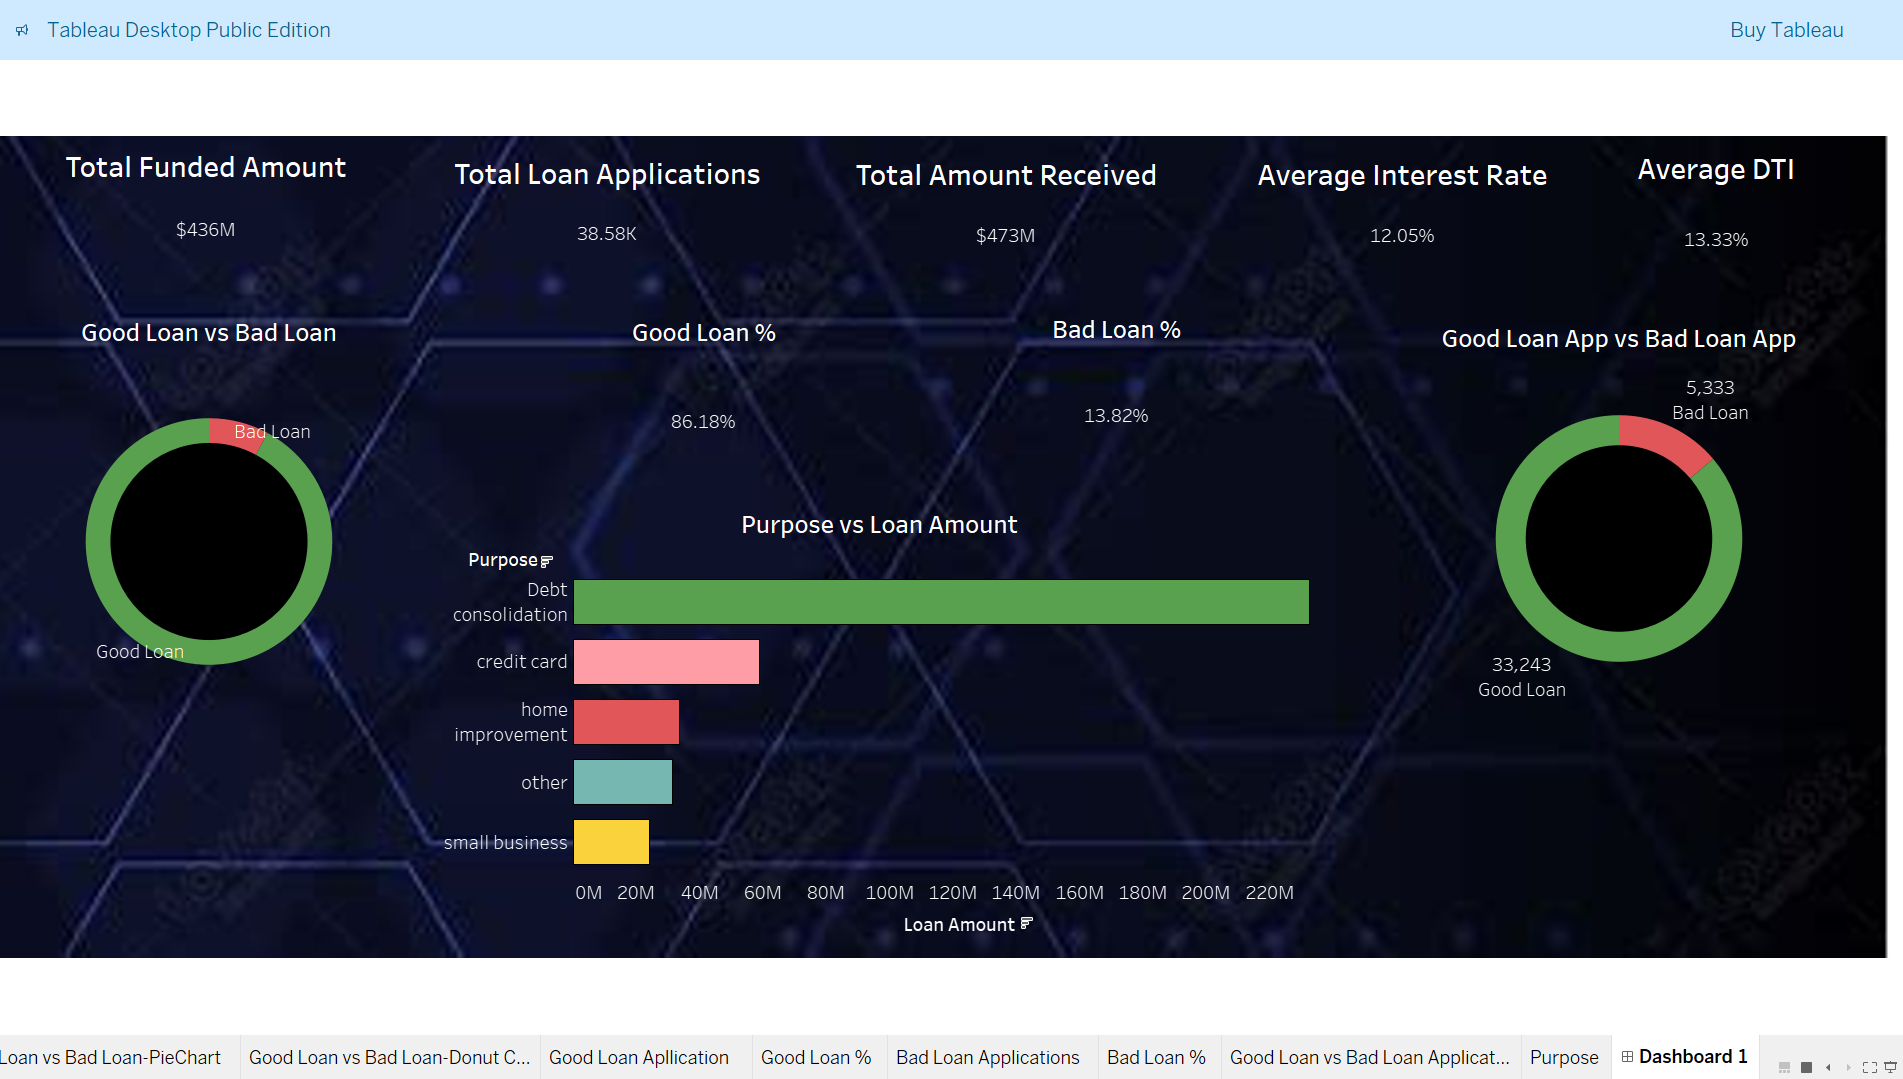

Layout of this report page (visuals, bound fields, positions):
{"tool":"tableau","page":{"name":"Dashboard 1","canvas":[1000,1000],"units":"permille","ordinal":0},"visuals":[{"type":"image","param":"C:/Users/Akshita Singh/Downloads/OIP.jpg","box":[5.1,10.7,989.8,978.6]},{"type":"worksheet","title":"Total Funded Amount","mark":"Automatic","box":[12.7,84.5,206.2,123.3]},{"type":"worksheet","title":"Average DTI","mark":"Automatic","box":[843.3,85.8,118,139.4]},{"type":"worksheet","title":"Total Loan Applications","mark":"Automatic","box":[222.1,91.2,205.6,120.6]},{"type":"worksheet","title":"Total Amount Received","mark":"Automatic","box":[428.3,92.5,208.8,119.3]},{"type":"worksheet","title":"Average Interest Rate","mark":"Automatic","box":[642.8,92.5,192.3,119.3]},{"type":"worksheet","title":"Bad Loan %","mark":"Automatic","box":[506.4,241.3,161.8,202.4]},{"type":"worksheet","title":"Good Loan vs Bad Loan-Donut Chart","mark":"Pie","rows":["Calculation_1854357170902196235","Calculation_1854357170902245389"],"box":[16.5,257.4,201.1,423.6]},{"type":"worksheet","title":"Good Loan %","mark":"Automatic","box":[276.7,257.4,196.7,176.9]},{"type":"worksheet","title":"Good Loan vs Bad Loan Applications","mark":"Pie","rows":["Calculation_1854357170924503066","Calculation_1854357170924576796"],"box":[719.5,264.1,263.3,404.8]},{"type":"worksheet","title":"Purpose","mark":"Automatic","rows":["purpose"],"cols":["loan_amount"],"box":[223.3,454.4,486,451.7]}]}

Visuals, with their boxes on the dashboard's canvas, which has no fixed pixel size, in thousandths of its width and height (x1, y1, x2, y2). These are canvas units, not pixel positions in the 1903x1079 screenshot, which may show the page scaled, cropped or inside an application window:
image: 5:11:995:989
"Total Funded Amount" worksheet: 13:84:219:208
"Average DTI" worksheet: 843:86:961:225
"Total Loan Applications" worksheet: 222:91:428:212
"Total Amount Received" worksheet: 428:92:637:212
"Average Interest Rate" worksheet: 643:92:835:212
"Bad Loan %" worksheet: 506:241:668:444
"Good Loan vs Bad Loan-Donut Chart" worksheet (Pie marks): 16:257:218:681
"Good Loan %" worksheet: 277:257:473:434
"Good Loan vs Bad Loan Applications" worksheet (Pie marks): 720:264:983:669
"Purpose" worksheet: 223:454:709:906
